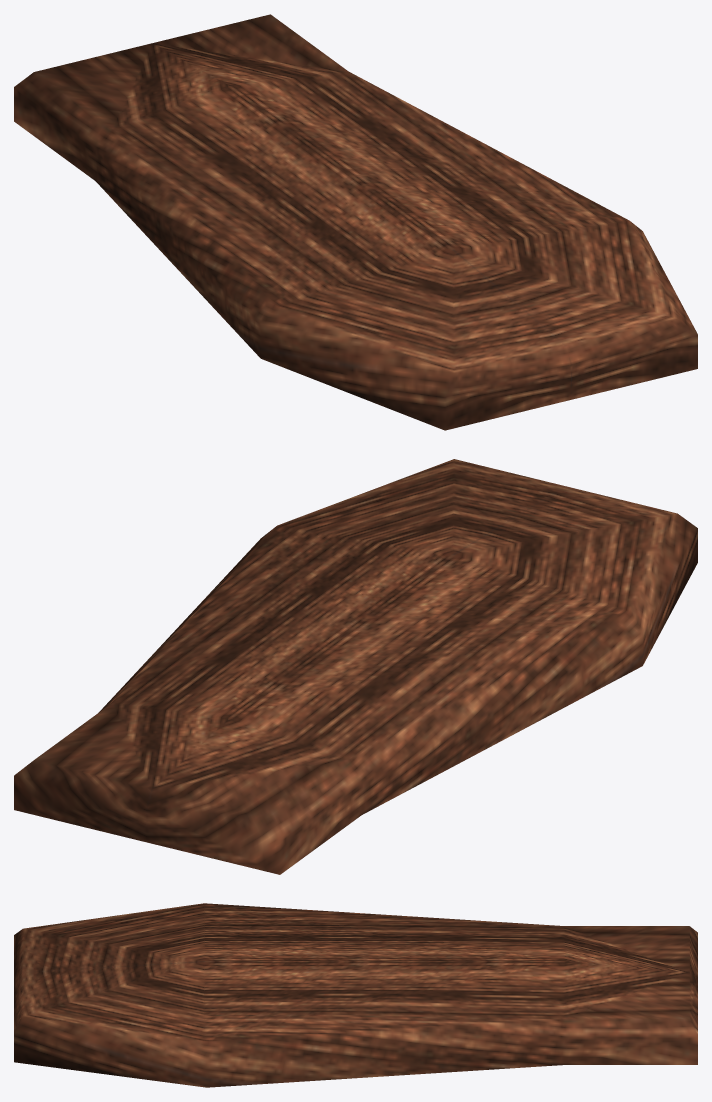
File: casket_lid.glb
3 renders of one model, top to bottom at view 1: azimuth 30°, elevation 25°; view 2: azimuth 150°, elevation 25°; view 3: azimuth 270°, elevation 25°, orthographic. The views are drawn at different scales.
Visible parts, largest first — view 1: casket_lid; view 2: casket_lid; view 3: casket_lid.
Boxes of the visible parts, bbox=[...] form: casket_lid: bbox=[14, 14, 697, 430]; casket_lid: bbox=[14, 459, 697, 874]; casket_lid: bbox=[14, 903, 697, 1087].
Bounding box in the file's own units: 2.2 × 0.3485 × 4.23.
1 material, 1 textured.
